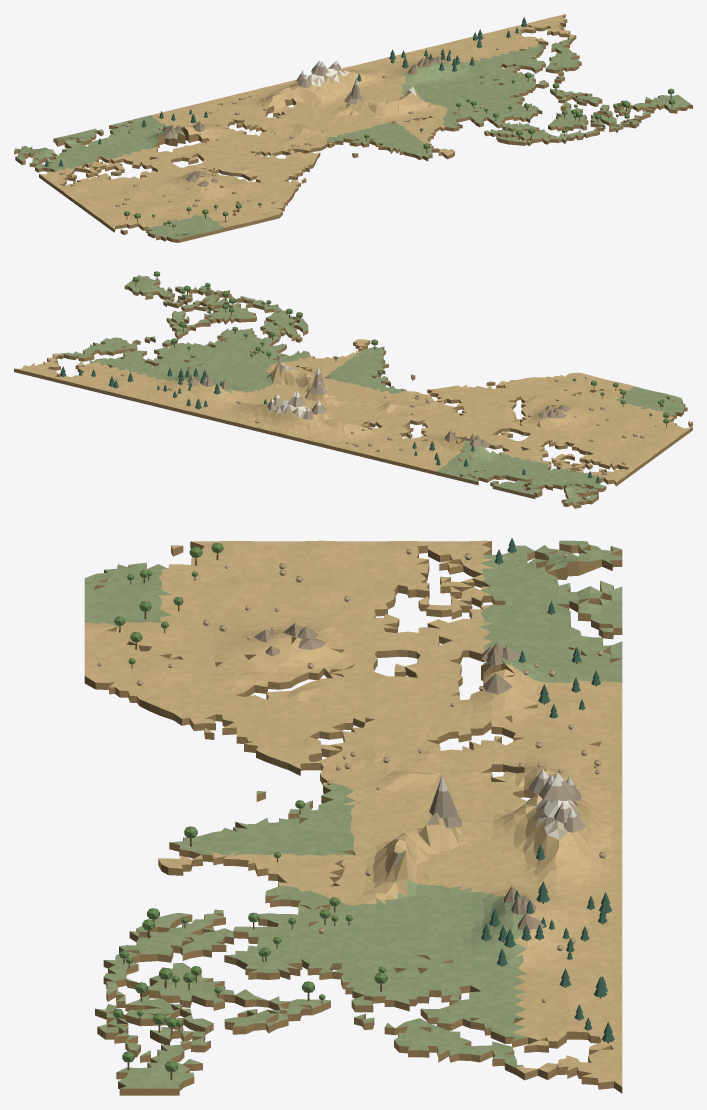
Rendered from terrain.glb.
3 views of the same model, one above another, from view 1: azimuth 30°, elevation 25°; view 2: azimuth 150°, elevation 25°; view 3: azimuth 270°, elevation 25° (orthographic). The views are drawn at different scales.
Parts seen in each view (by area): view 1: eurasia_faceted_mainland, coast_facets, scatter_leaf_olive, scatter_pine_jade, scatter_stone_0, scatter_stone_1, scatter_sandstone_boulder; view 2: eurasia_faceted_mainland, coast_facets, scatter_leaf_olive, scatter_pine_jade, scatter_stone_0, scatter_stone_1, scatter_sandstone_boulder; view 3: eurasia_faceted_mainland, coast_facets, scatter_leaf_olive, scatter_pine_jade, scatter_stone_0, scatter_stone_1, scatter_sandstone_boulder.
Boxes of the visible parts, x1,y1,x2,y2 form: eurasia_faceted_mainland: (14,14,692,239); coast_facets: (14,14,692,242); scatter_leaf_olive: (124,72,675,227); scatter_pine_jade: (44,17,527,166); scatter_stone_0: (161,55,442,186); scatter_stone_1: (296,63,360,104); scatter_sandstone_boulder: (39,28,564,216); eurasia_faceted_mainland: (15,275,692,504); coast_facets: (14,281,692,508); scatter_leaf_olive: (132,271,669,423); scatter_pine_jade: (60,366,599,482); scatter_stone_0: (187,374,568,447); scatter_stone_1: (267,373,327,419); scatter_sandstone_boulder: (47,350,656,490); eurasia_faceted_mainland: (84,540,622,1088); coast_facets: (84,541,622,1095); scatter_leaf_olive: (113,542,387,1072); scatter_pine_jade: (481,538,614,1041); scatter_stone_0: (254,623,544,930); scatter_stone_1: (429,776,585,832); scatter_sandstone_boulder: (97,549,606,1068).
Bounding box in the file's own units: 40.96 × 2.47 × 17.
